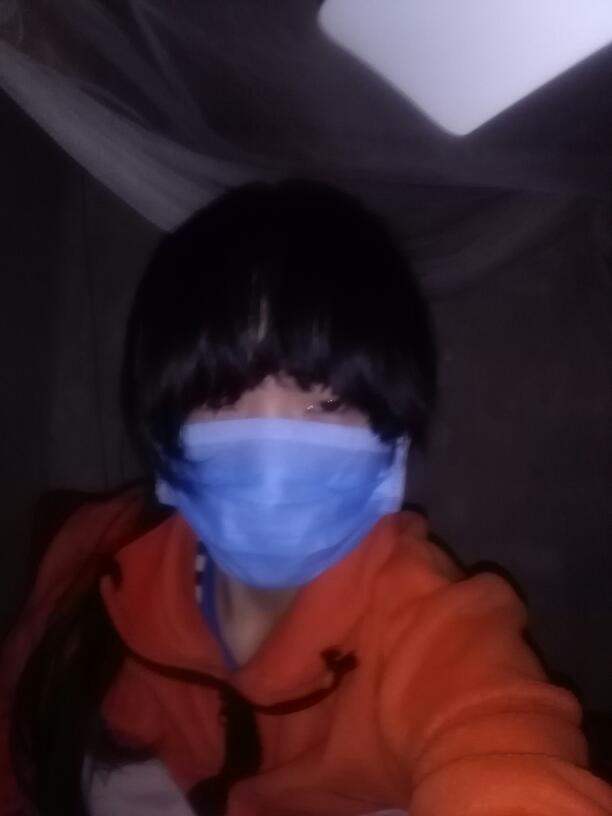mask: (158, 340, 415, 590)
